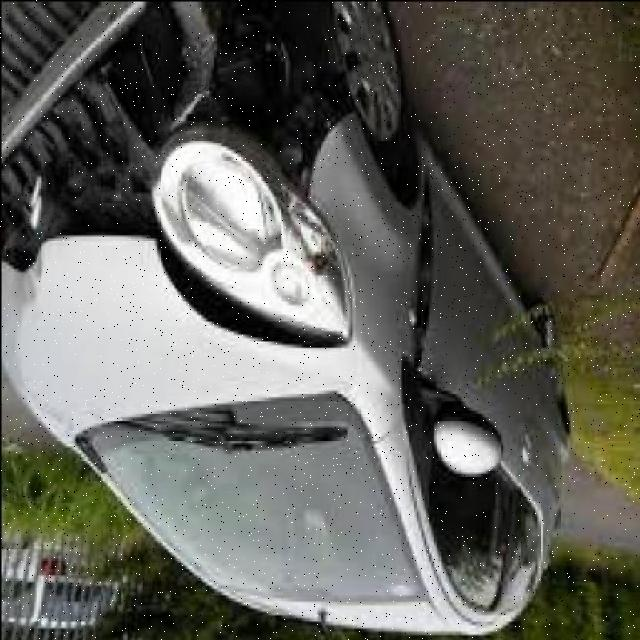damage: (1, 0, 440, 371)
